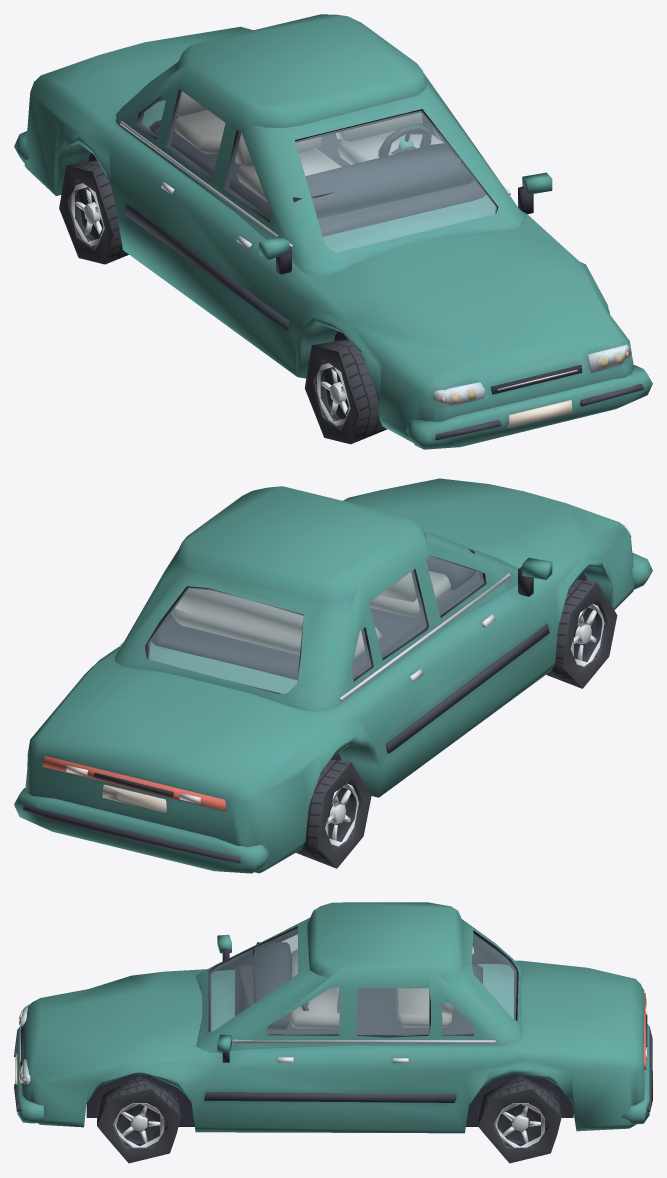
The model's file is g3-1990s-sedan-lite.glb.
The picture shows the model from 3 angles, top to bottom: view 1: azimuth 30°, elevation 25°; view 2: azimuth 150°, elevation 25°; view 3: azimuth 270°, elevation 25°; orthographic projection. The views are drawn at different scales.
Visible parts, largest first — view 1: 1990s-sedan_body, 1990s-sedan_windows, 1990s-sedan_wheel_fr, 1990s-sedan_wheel_rr; view 2: 1990s-sedan_body, 1990s-sedan_windows, 1990s-sedan_wheel_rr, 1990s-sedan_wheel_fr; view 3: 1990s-sedan_body, 1990s-sedan_windows, 1990s-sedan_wheel_fl, 1990s-sedan_wheel_rl.
Part boxes in pixels (<box>): 1990s-sedan_body: <box>14,14,652,449</box>; 1990s-sedan_windows: <box>139,90,496,252</box>; 1990s-sedan_wheel_fr: <box>305,339,386,444</box>; 1990s-sedan_wheel_rr: <box>59,160,128,264</box>; 1990s-sedan_body: <box>14,478,652,873</box>; 1990s-sedan_windows: <box>148,556,483,693</box>; 1990s-sedan_wheel_rr: <box>296,759,371,868</box>; 1990s-sedan_wheel_fr: <box>546,580,617,688</box>; 1990s-sedan_body: <box>14,902,652,1133</box>; 1990s-sedan_windows: <box>210,928,516,1035</box>; 1990s-sedan_wheel_fl: <box>97,1075,180,1163</box>; 1990s-sedan_wheel_rl: <box>478,1075,561,1163</box>.
Size of the model in its own units: 1.88 by 1.47 by 4.66.
Materials: 6 (2 with a texture image).
